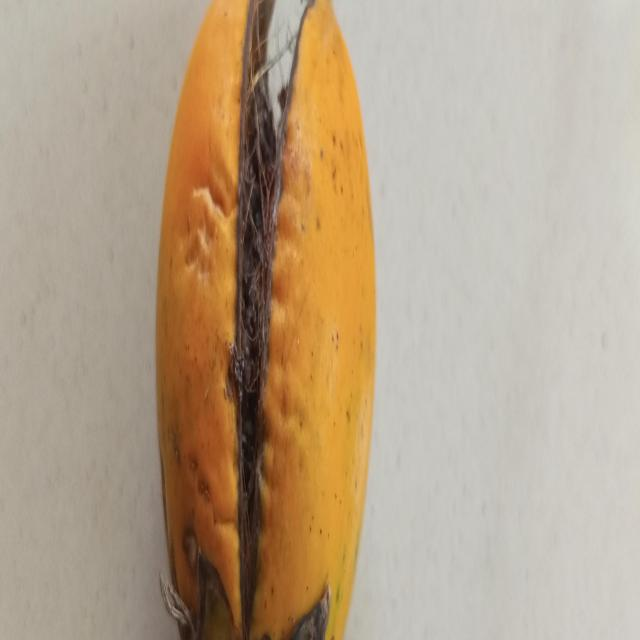damaged: (155, 0, 378, 640)
